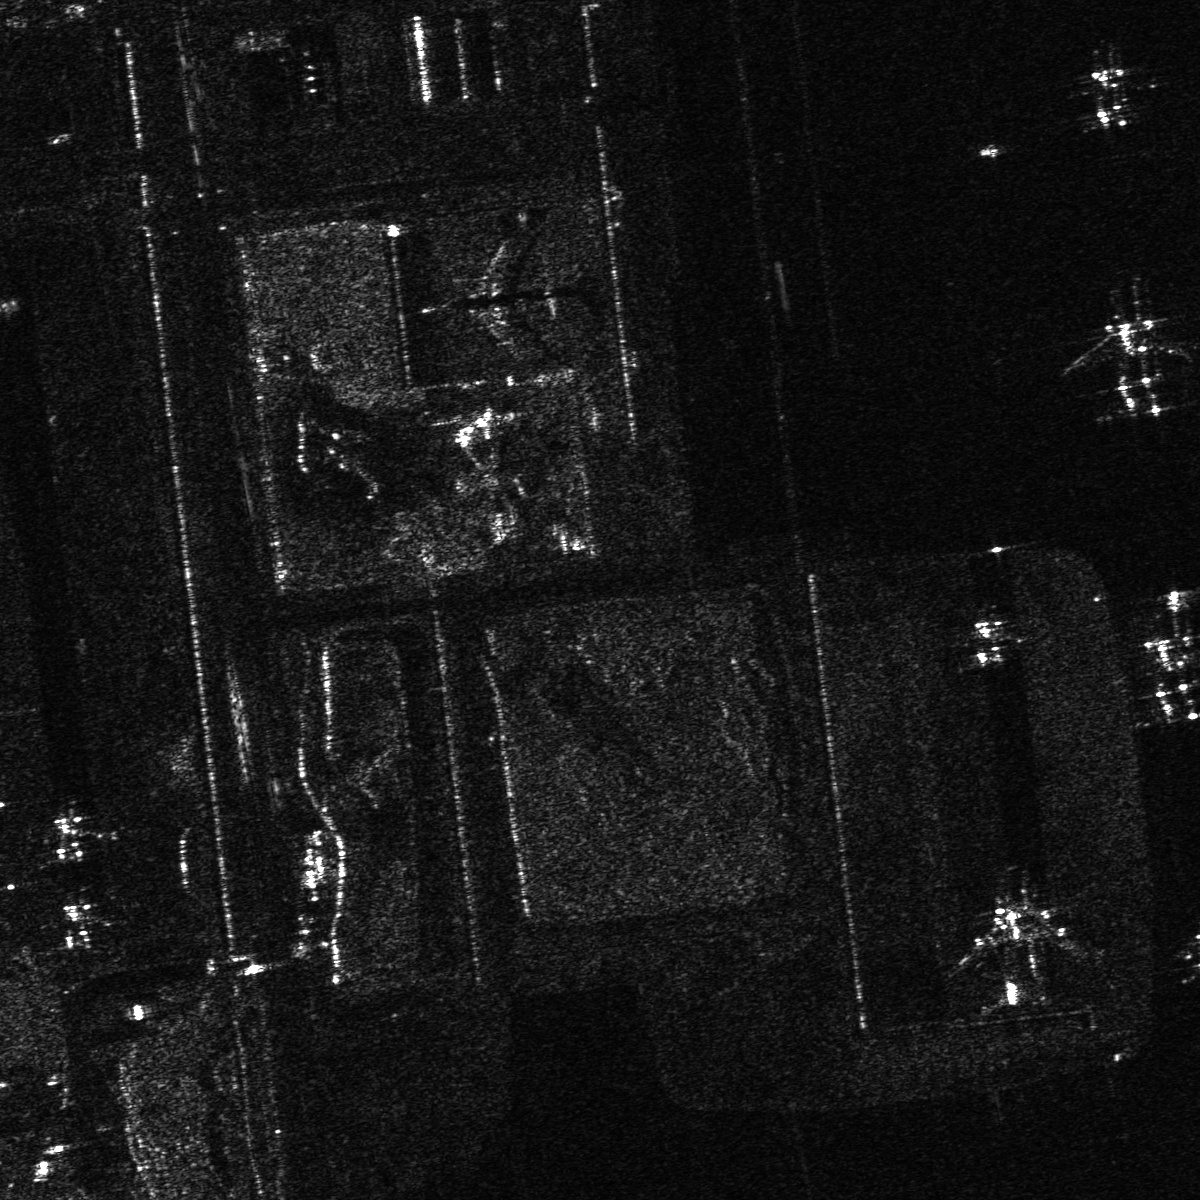A220: (949, 605, 1029, 673)
Boeing787: (1068, 38, 1158, 138)
other: (421, 201, 611, 368), (934, 884, 1092, 1016), (1062, 303, 1199, 424), (1108, 586, 1199, 732)
